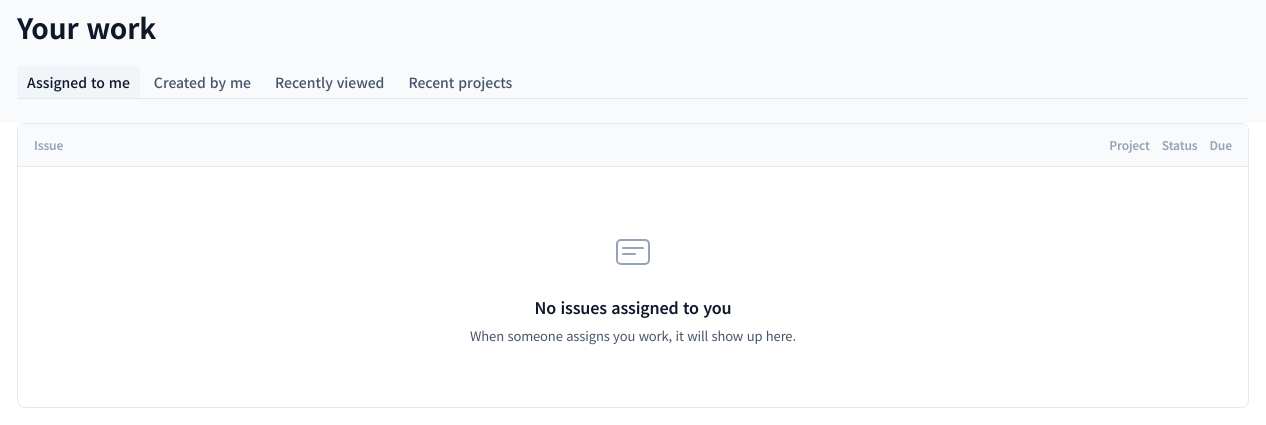
Test case: YourWorkPage grid UX › Recently viewed adds the same 4-column header as Assigned
Click the button "Recently viewed": (330, 82) x1=265 y1=66 x2=394 y2=98
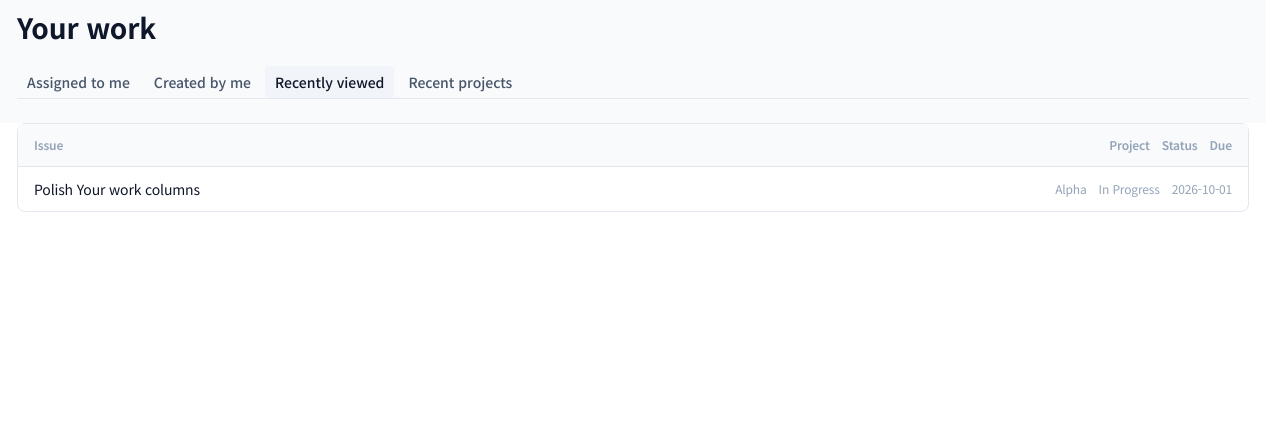
Expected: the element with class "head" reads "Issue Project Status Due", x1=18 y1=124 x2=1248 y2=167
Expected: the text "Polish Your work columns" is shown, x1=34 y1=179 x2=200 y2=199
